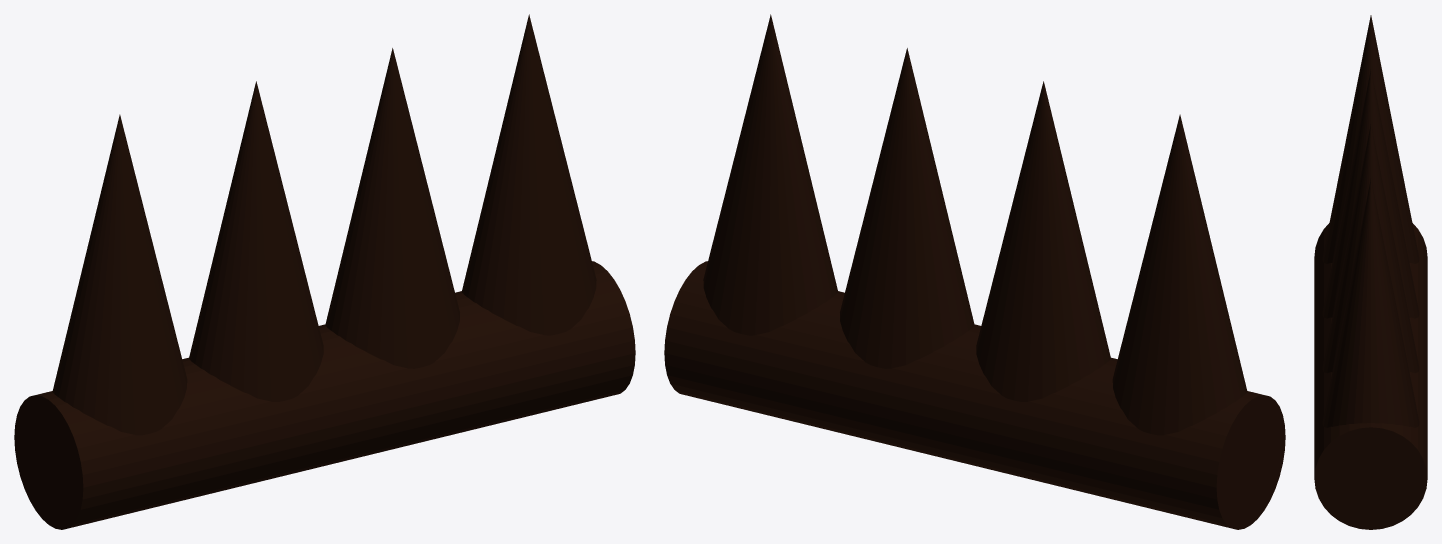
Rendered from Spike_1.fbx.
3 renders of one model, left to right at view 1: azimuth 30°, elevation 25°; view 2: azimuth 150°, elevation 25°; view 3: azimuth 270°, elevation 25°, orthographic. The views are drawn at different scales.
Visible parts, largest first — view 1: Spike1, Base1; view 2: Spike1, Base1; view 3: Spike1, Base1.
Boxes of the visible parts, x1,y1,x2,y2 form: Spike1: [52, 14, 596, 435]; Base1: [14, 261, 635, 529]; Spike1: [703, 14, 1247, 435]; Base1: [664, 261, 1285, 529]; Spike1: [1322, 15, 1419, 427]; Base1: [1314, 223, 1427, 529].
Size of the model in its own units: 118 by 80.66 by 25.62.
